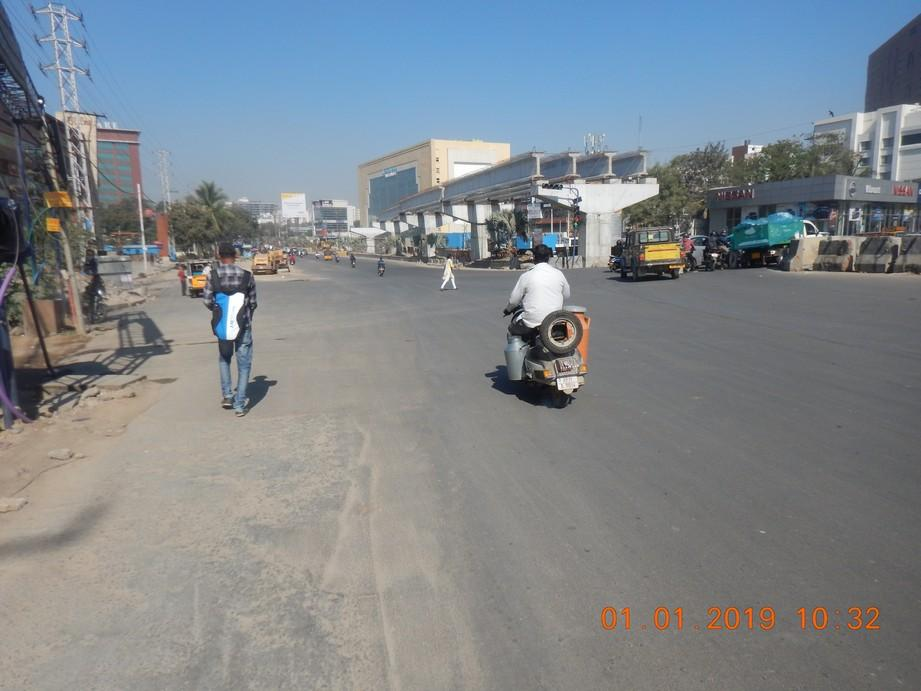plate: (556, 376, 580, 390)
